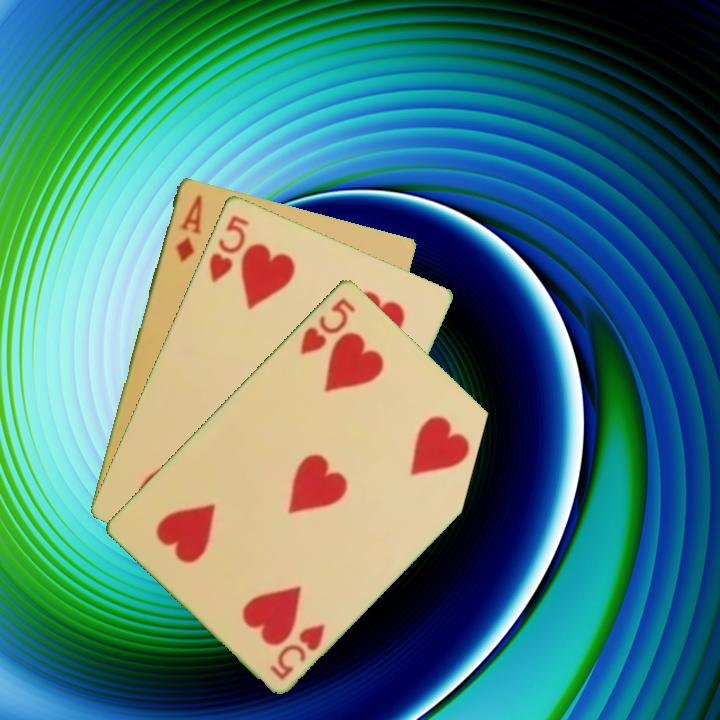5h: (296, 294, 359, 358), (266, 619, 329, 683), (205, 211, 252, 285)
Ad: (172, 191, 205, 265)
